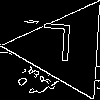L: (40, 23, 74, 71)
